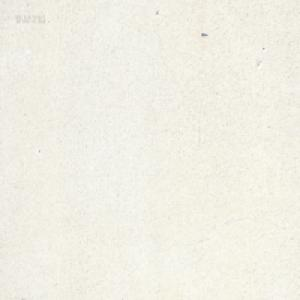Nail: (201, 30, 208, 36)
